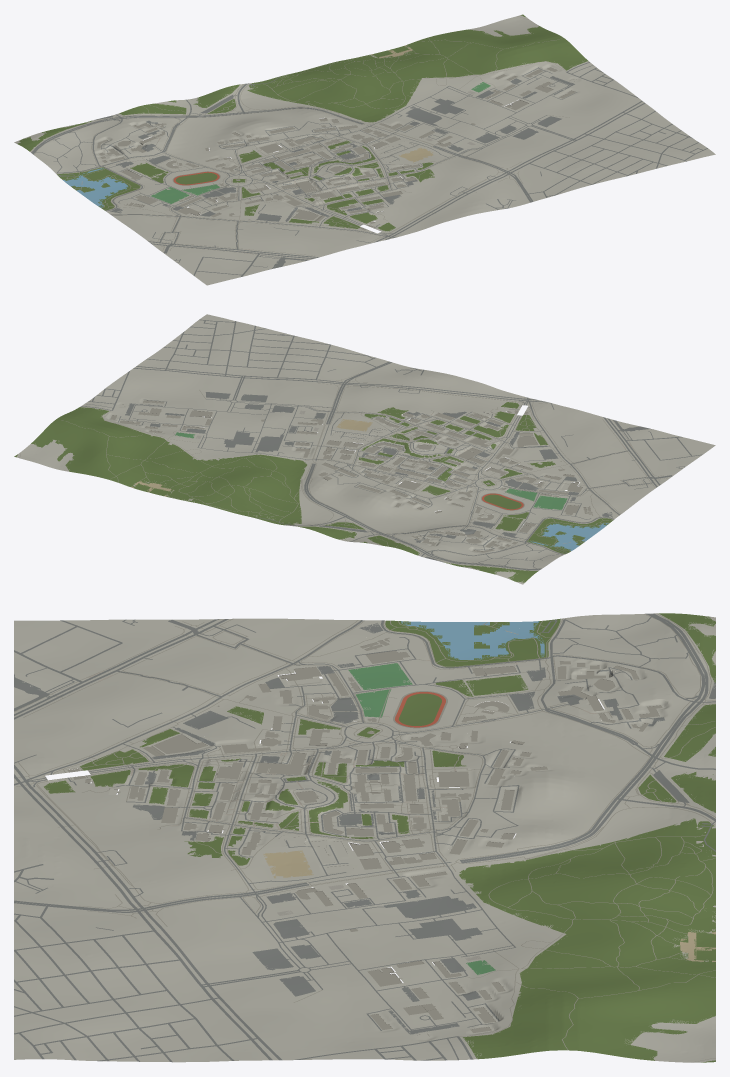
3 renders of one model, top to bottom at view 1: azimuth 30°, elevation 25°; view 2: azimuth 150°, elevation 25°; view 3: azimuth 270°, elevation 25°, orthographic. The views are drawn at different scales.
Parts seen in each view (by area): view 1: jbnu-base, jbnu-wood, jbnu-asphalt, jbnu-paving, jbnu-base__chunk_2_-1, jbnu-base__chunk_0_-1, jbnu-base__chunk_-2_-2, jbnu-base__chunk_-1_-2, jbnu-base__chunk_-1_-1, jbnu-grass, jbnu-base__chunk_1_-1, jbnu-base__chunk_0_-2 (+25 smaller); view 2: jbnu-base, jbnu-wood, jbnu-asphalt, jbnu-paving, jbnu-base__chunk_0_-1, jbnu-base__chunk_-1_-1, jbnu-base__chunk_2_-1, jbnu-grass, jbnu-base__chunk_-1_-2, jbnu-base__chunk_-2_-2, jbnu-base__chunk_0_-2, jbnu-base__chunk_1_-1 (+26 smaller); view 3: jbnu-base, jbnu-wood, jbnu-asphalt, jbnu-paving, jbnu-base__chunk_2_-1, jbnu-base__chunk_-1_-2, jbnu-base__chunk_0_-1, jbnu-base__chunk_-2_-2, jbnu-base__chunk_-1_-1, jbnu-grass, jbnu-base__chunk_1_-1, jbnu-base__chunk_0_-2 (+29 smaller).
Boxes of the visible parts, bbox=[...] form: jbnu-base: bbox=[113, 85, 715, 285]; jbnu-wood: bbox=[17, 14, 587, 176]; jbnu-asphalt: bbox=[119, 88, 707, 277]; jbnu-paving: bbox=[116, 115, 569, 259]; jbnu-base__chunk_2_-1: bbox=[420, 66, 562, 123]; jbnu-base__chunk_0_-1: bbox=[238, 111, 375, 169]; jbnu-base__chunk_-2_-2: bbox=[14, 119, 146, 174]; jbnu-base__chunk_-1_-2: bbox=[102, 99, 236, 155]; jbnu-base__chunk_-1_-1: bbox=[147, 132, 288, 194]; jbnu-grass: bbox=[57, 59, 433, 230]; jbnu-base__chunk_1_-1: bbox=[328, 85, 470, 145]; jbnu-base__chunk_0_-2: bbox=[190, 76, 327, 131]; jbnu-base: bbox=[113, 314, 715, 513]; jbnu-wood: bbox=[14, 407, 538, 581]; jbnu-asphalt: bbox=[123, 319, 702, 511]; jbnu-paving: bbox=[199, 373, 667, 512]; jbnu-base__chunk_0_-1: bbox=[303, 445, 444, 505]; jbnu-base__chunk_-1_-1: bbox=[393, 467, 535, 528]; jbnu-base__chunk_2_-1: bbox=[129, 400, 263, 458]; jbnu-grass: bbox=[189, 402, 613, 554]; jbnu-base__chunk_-1_-2: bbox=[346, 505, 483, 559]; jbnu-base__chunk_-2_-2: bbox=[437, 529, 564, 584]; jbnu-base__chunk_0_-2: bbox=[256, 484, 392, 541]; jbnu-base__chunk_1_-1: bbox=[211, 421, 349, 484]; jbnu-base: bbox=[14, 618, 355, 1062]; jbnu-wood: bbox=[265, 613, 715, 1062]; jbnu-asphalt: bbox=[14, 619, 354, 1062]; jbnu-paving: bbox=[14, 618, 359, 1002]; jbnu-base__chunk_2_-1: bbox=[355, 928, 545, 1011]; jbnu-base__chunk_-1_-2: bbox=[545, 686, 715, 776]; jbnu-base__chunk_0_-1: bbox=[355, 769, 545, 853]; jbnu-base__chunk_-2_-2: bbox=[545, 613, 715, 693]; jbnu-base__chunk_-1_-1: bbox=[355, 694, 545, 772]; jbnu-grass: bbox=[45, 618, 715, 911]; jbnu-base__chunk_1_-1: bbox=[355, 849, 545, 931]; jbnu-base__chunk_0_-2: bbox=[545, 770, 715, 853].
Bounding box in the file's own units: 2156 × 56.64 × 1416.
23 materials, 15 textured.
